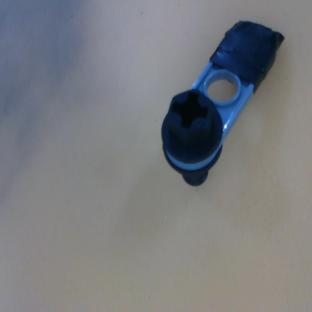part_1_bad: (139, 3, 288, 191)
